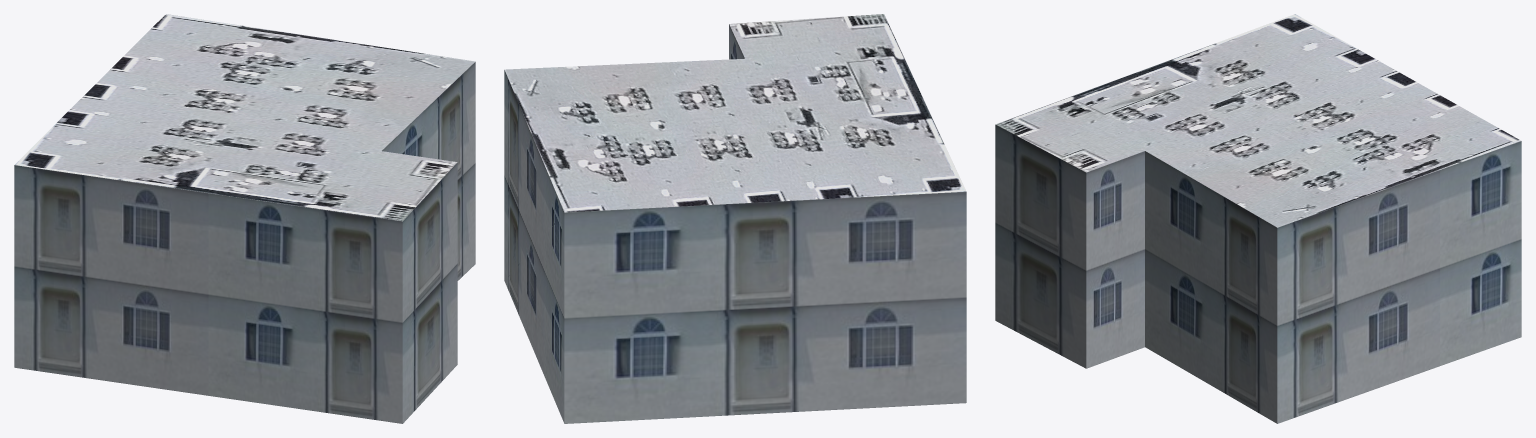
The model's file is ResTex__52.fbx.
3 views of the same model, side by side, from view 1: azimuth 30°, elevation 25°; view 2: azimuth 150°, elevation 25°; view 3: azimuth 270°, elevation 25° (orthographic). The views are drawn at different scales.
Parts seen in each view (by area): view 1: CityEngineMaterial_17_m, CityEngineMaterial_8_m; view 2: CityEngineMaterial_17_m, CityEngineMaterial_8_m; view 3: CityEngineMaterial_17_m, CityEngineMaterial_8_m.
Part boxes in pixels (box(x1,y1,x2,y2)): CityEngineMaterial_17_m: box(14, 62, 475, 423); CityEngineMaterial_8_m: box(15, 14, 475, 221); CityEngineMaterial_17_m: box(504, 24, 966, 423); CityEngineMaterial_8_m: box(505, 14, 966, 212); CityEngineMaterial_17_m: box(995, 124, 1521, 423); CityEngineMaterial_8_m: box(995, 14, 1520, 227).
Size of the model in its own units: 14.01 by 6 by 14.58.
2 materials, 2 textured.
